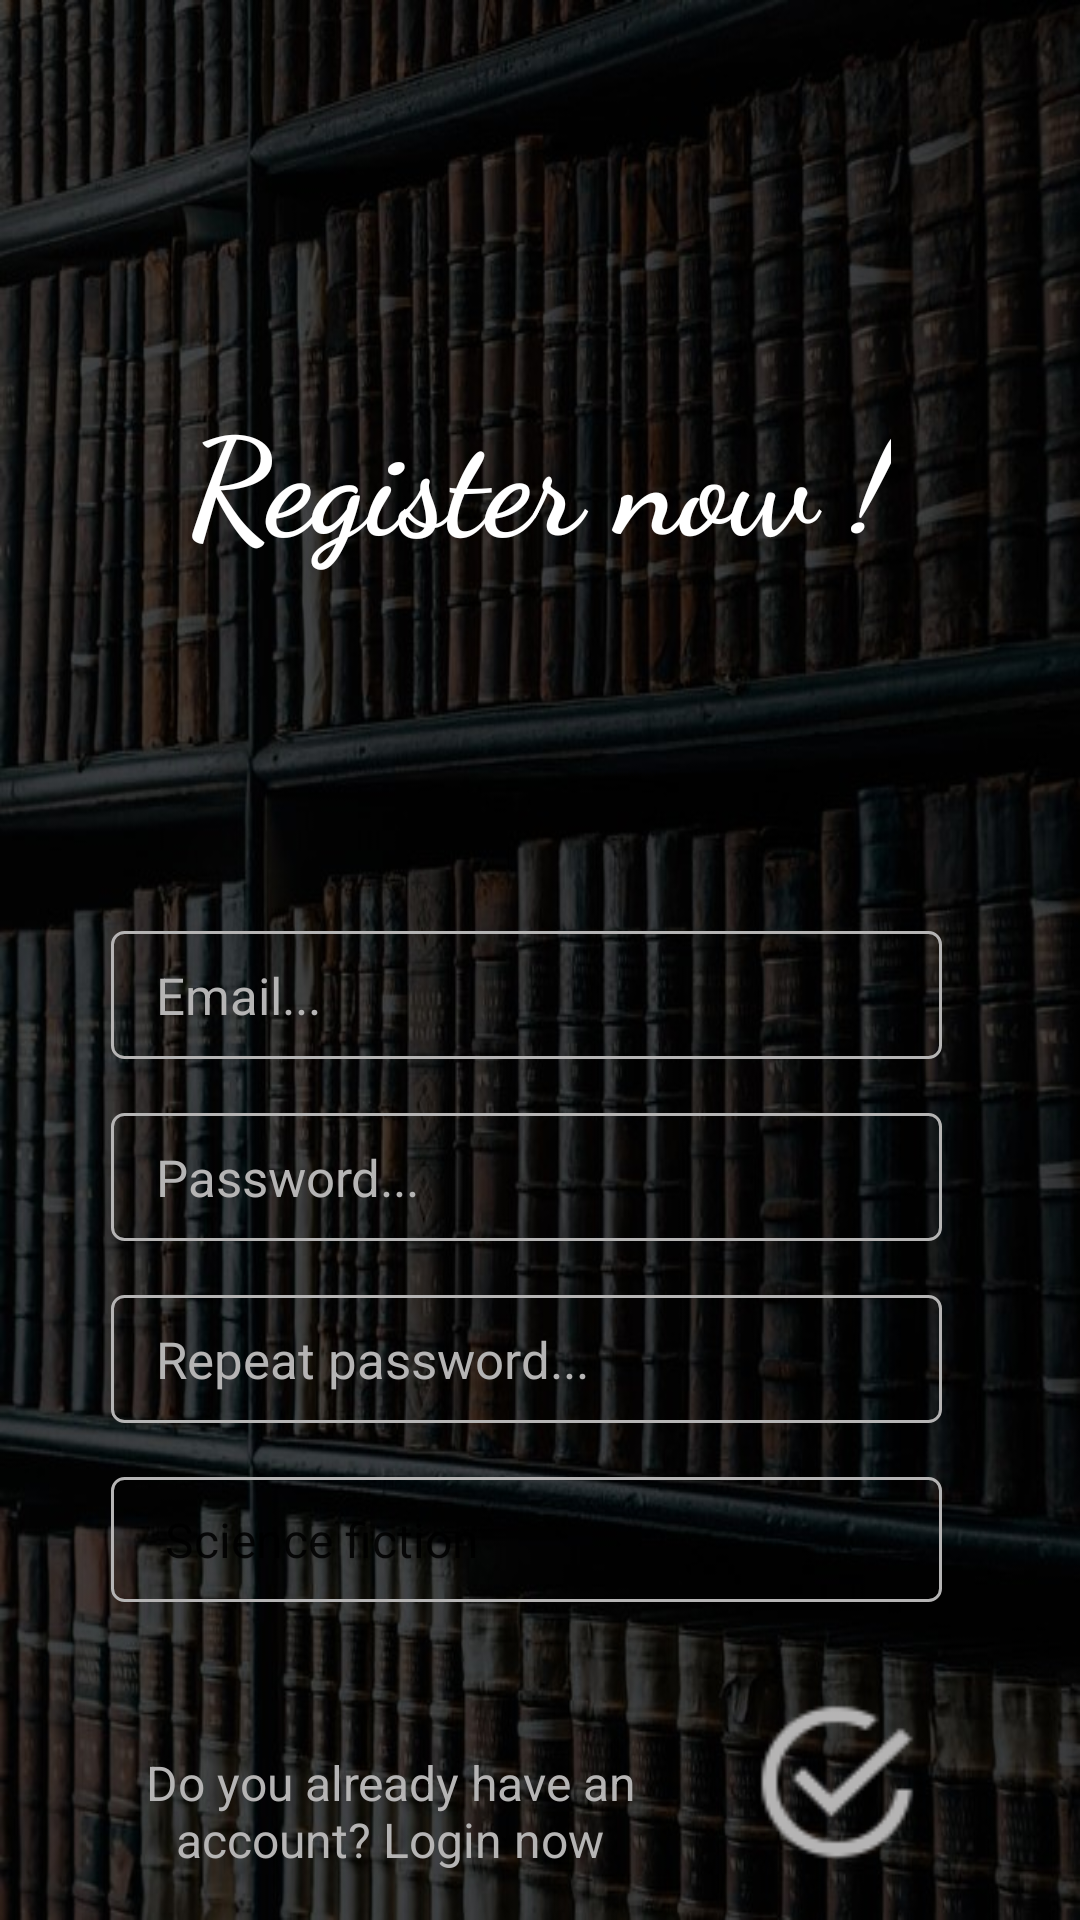

Named icons in this screenshot (1080*1920) and their bounding boxes, rect(x1, y1, x2, y2):
register: rect(747, 1692, 925, 1872)
